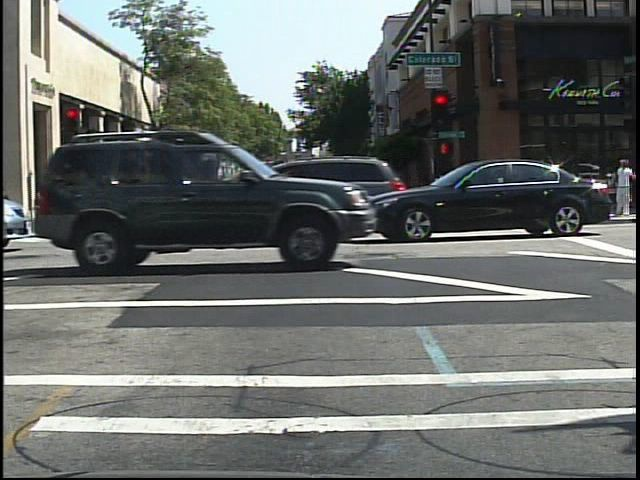person: (614, 156, 637, 222), (164, 180, 182, 220)
